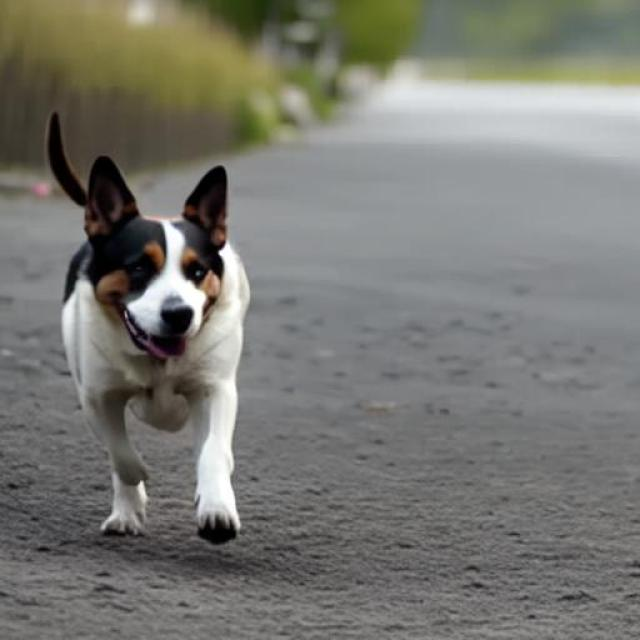Dog: (48, 112, 251, 544)
